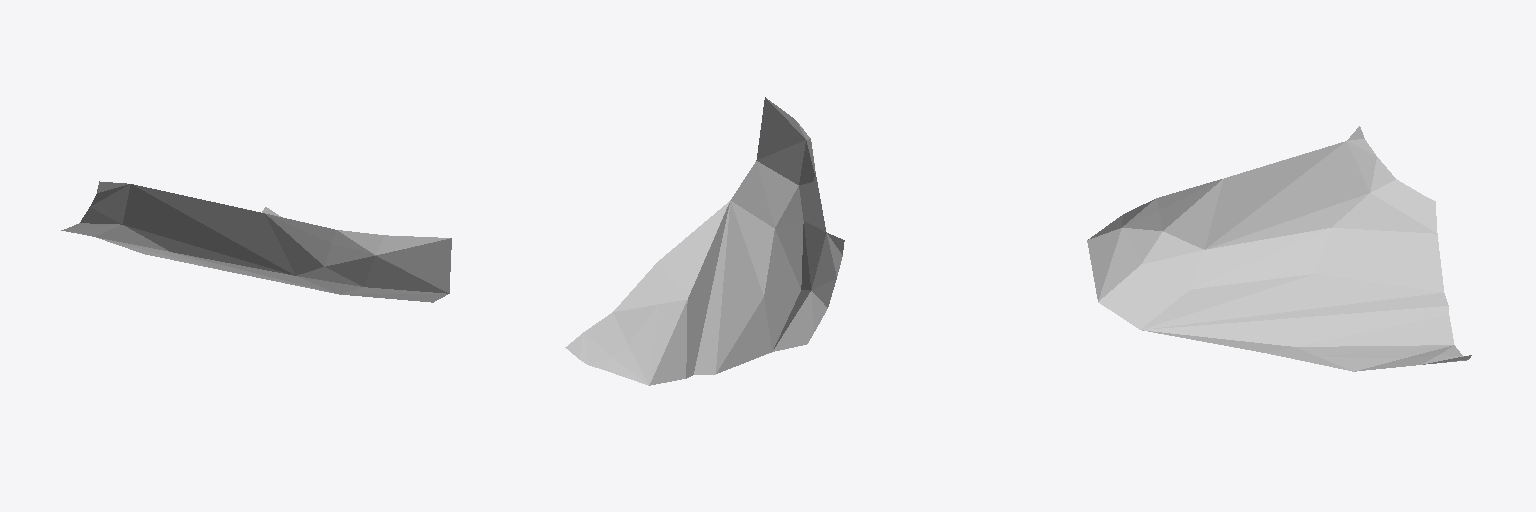
The model's file is HAND_new_69.obj.
3 views of the same model, side by side, from view 1: azimuth 30°, elevation 25°; view 2: azimuth 150°, elevation 25°; view 3: azimuth 270°, elevation 25° (orthographic).
Bounding box in the file's own units: 20.86 × 12.42 × 29.46.